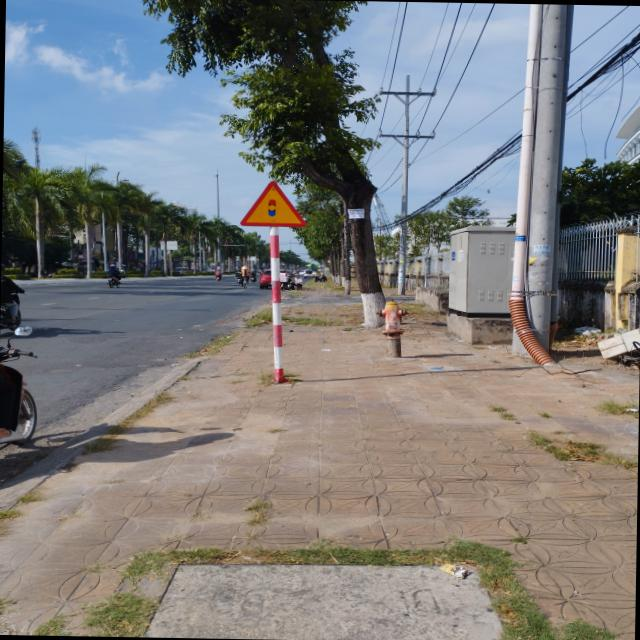Duong_Co_Go_Giam_Toc: (240, 180, 306, 227)
